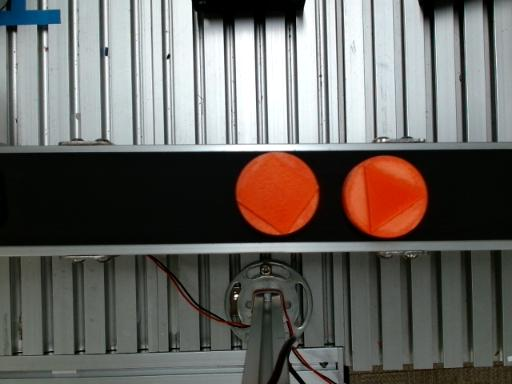Not_Square: (364, 161, 427, 235)
Orange_Waper: (341, 155, 427, 238), (235, 152, 319, 235)
Square: (235, 152, 319, 235)
